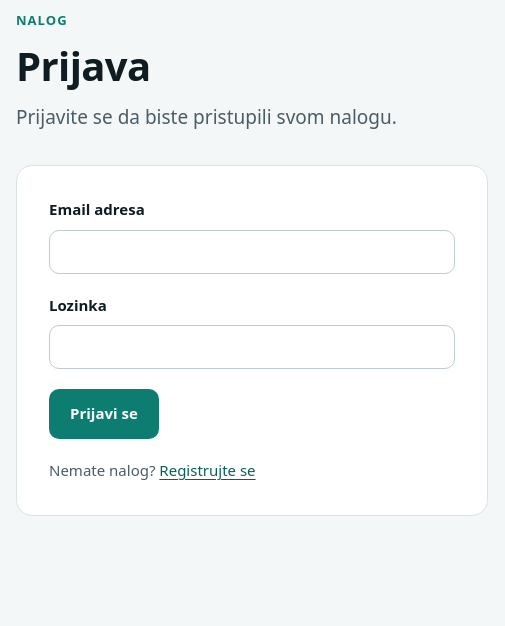
Test case: LoginPage validation › a throttled sign-in explains the wait instead of showing a raw code
Type "ana@example.com" into the field labelled "Email adresa". click: (252, 252)
box: [49,230,455,274]
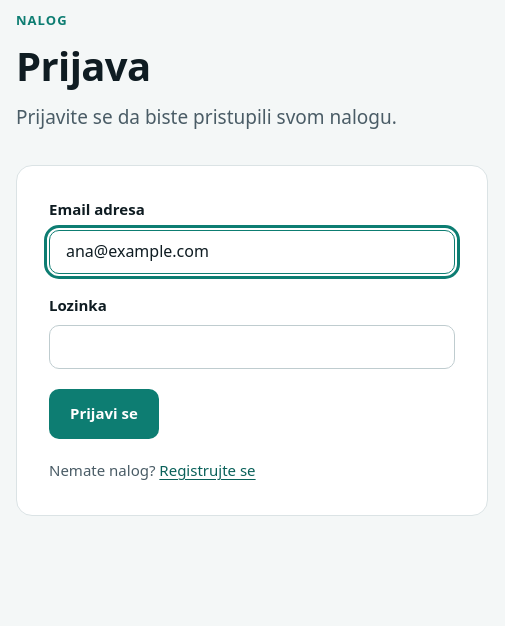
Type "WrongPass123" into the password field labelled "Lozinka". click: (252, 347)
box: [49,325,455,369]
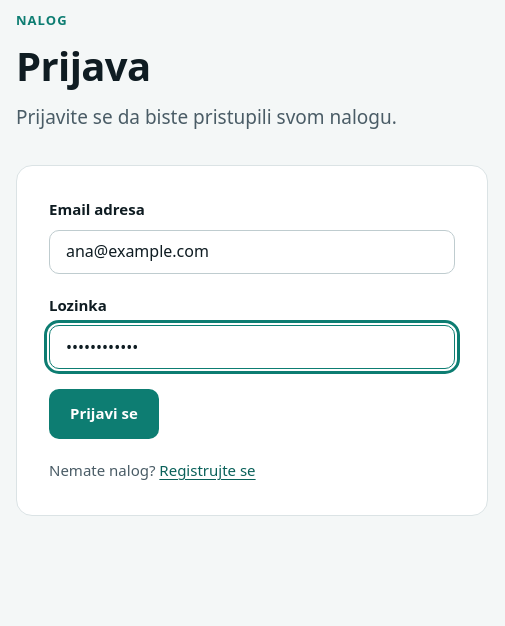
Click the button "Prijavi se". click: click(104, 414)
box: [49,389,159,439]
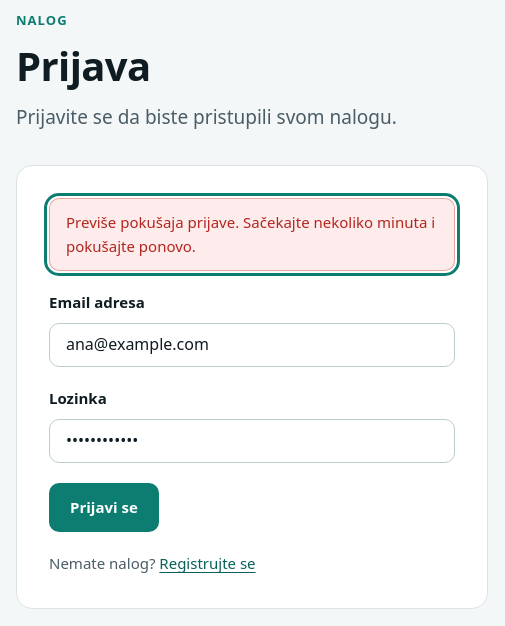
Expected: the message shows "Previše pokušaja", [66,212,435,256]
